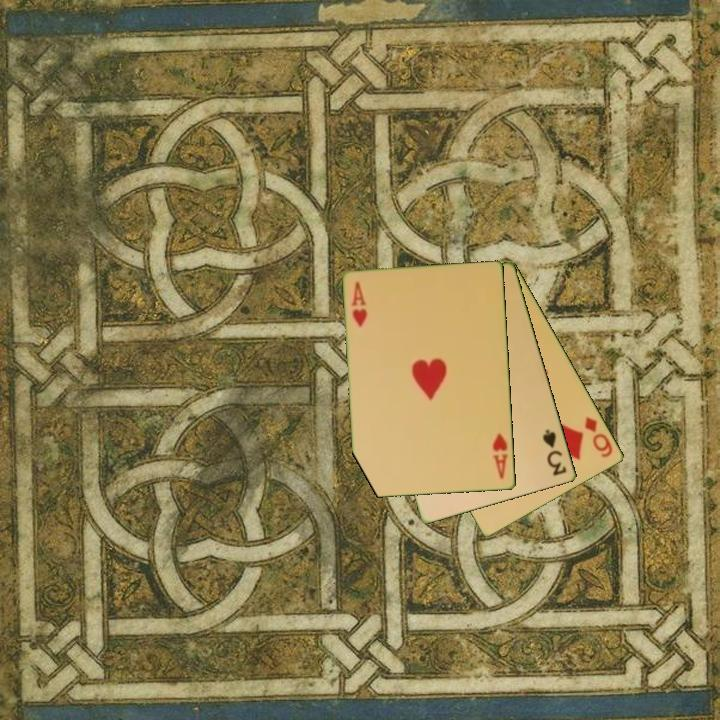3s: (539, 426, 570, 479)
6d: (581, 413, 616, 461)
Ah: (489, 430, 511, 482), (348, 279, 370, 330)
